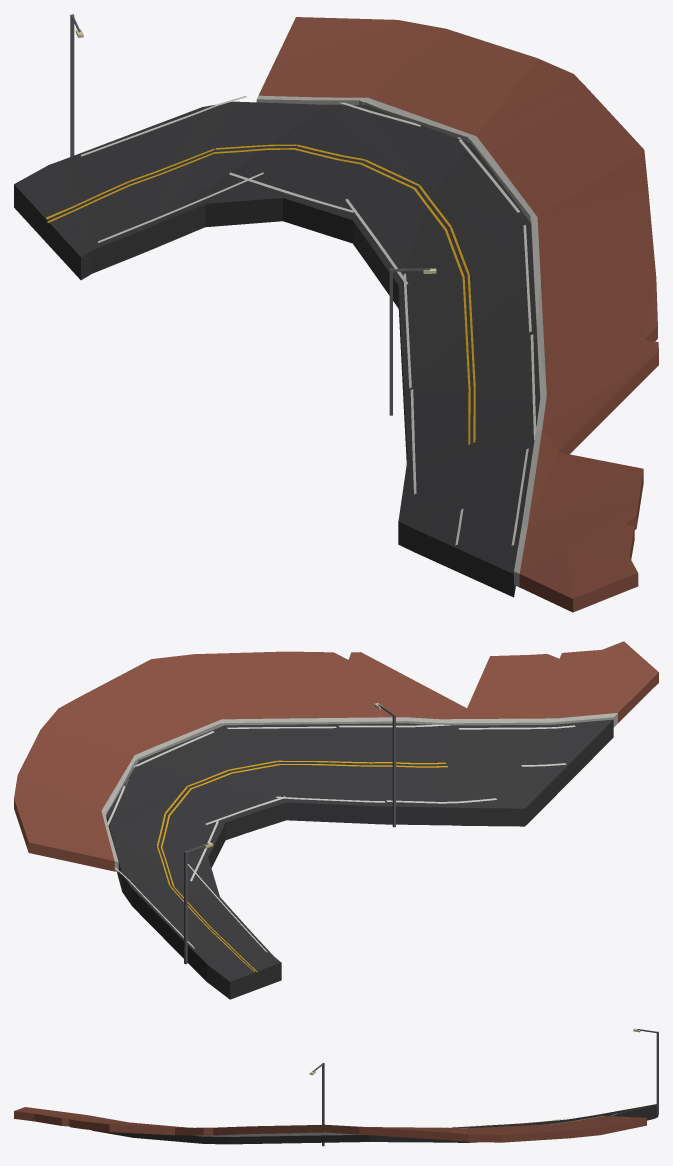
File: 17-109453-59439.46bffeaa.glb
3 views of the same model, one above another, from view 1: azimuth 30°, elevation 25°; view 2: azimuth 150°, elevation 25°; view 3: azimuth 270°, elevation 25° (orthographic). The views are drawn at different scales.
Bounding box in the file's own units: 21.18 × 12.05 × 53.13.
